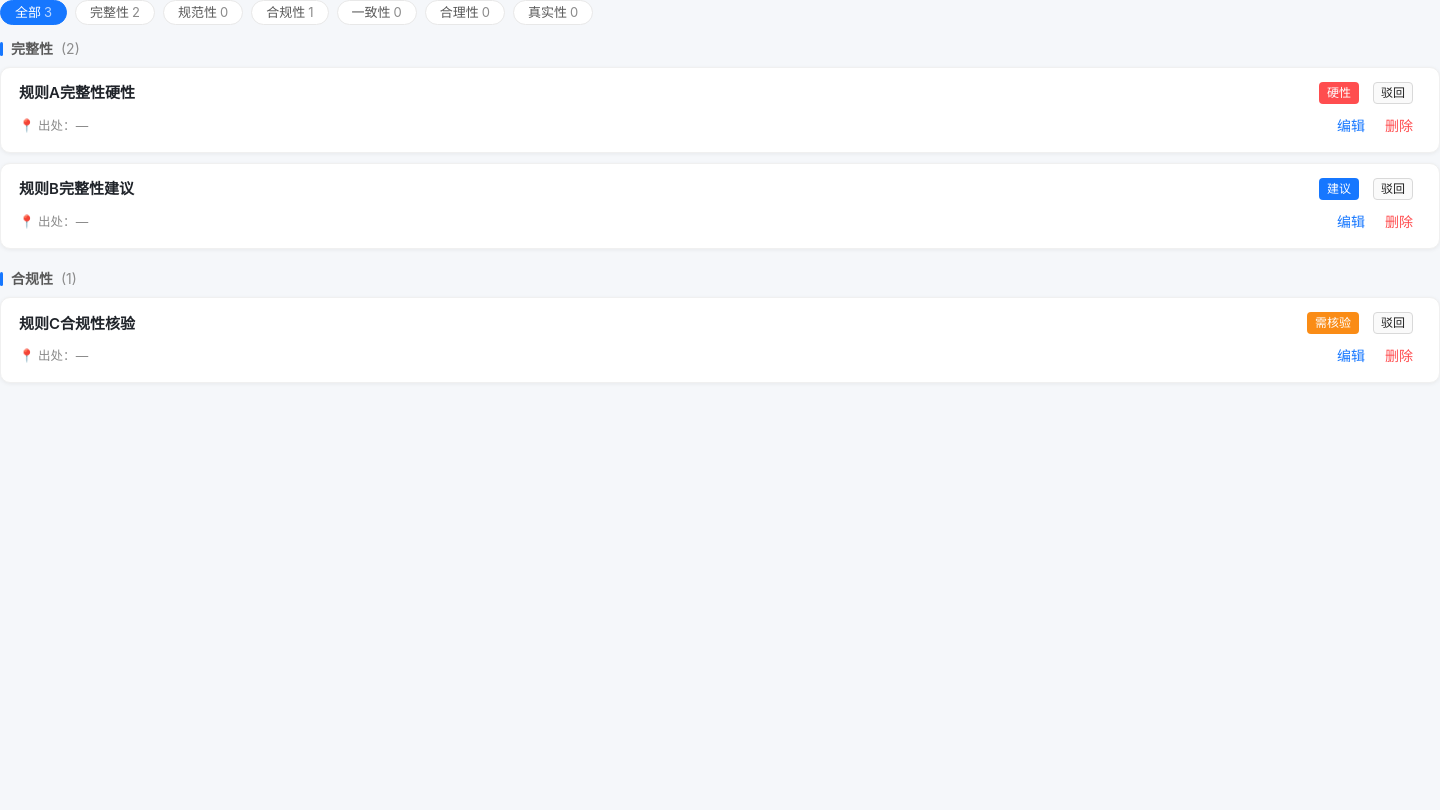
Scenario: 点击「编辑」弹出编辑规则 Modal
The image size is (1440, 810).
#  第一个编辑按钮
What coordinates should you click on to do the following:
click the 1st button "编辑"
I would click on:
 (1351, 126)
Its box is top-left (1329, 114), bottom-right (1373, 138).
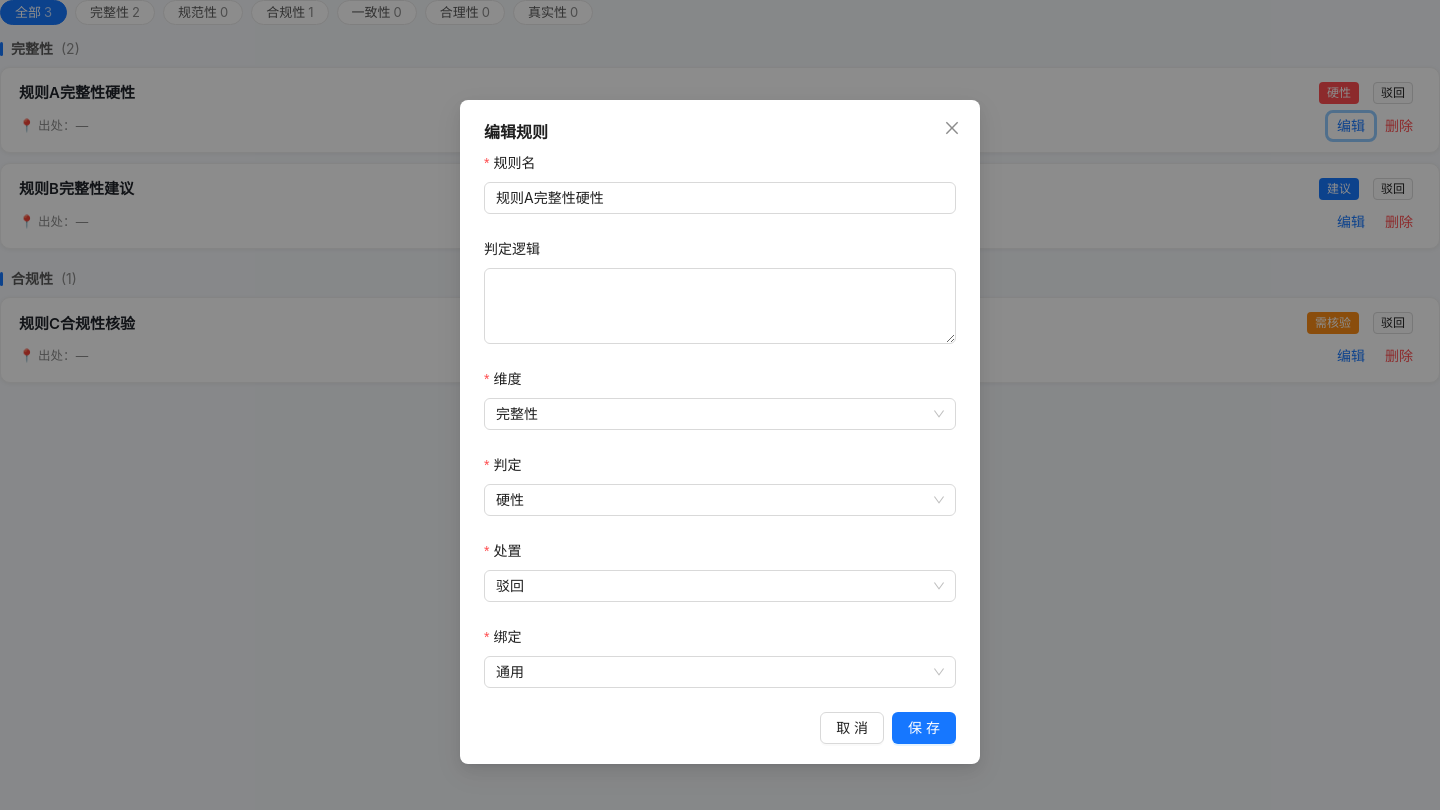
Result: the text "编辑规则" is shown at top-left (484, 122), bottom-right (548, 142)
